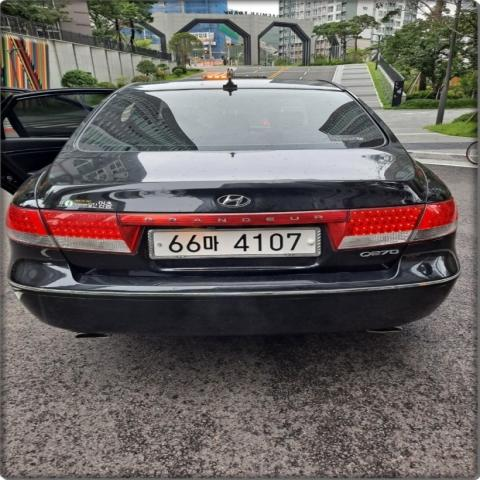LP: (142, 220, 332, 264)
